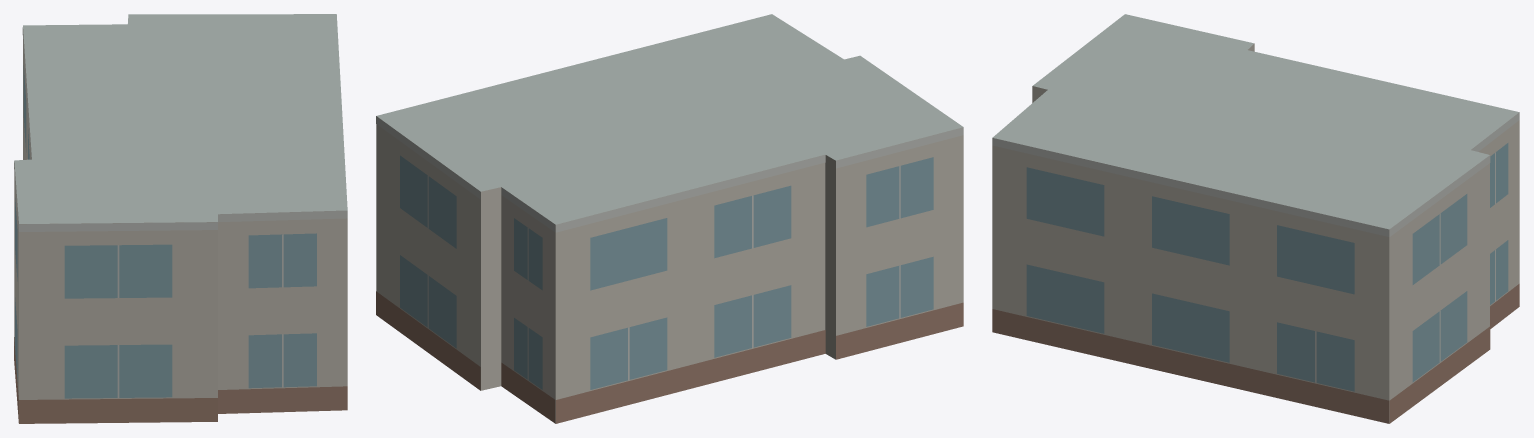
Rendered from survey-upis-33018690.glb.
The picture shows the model from 3 angles, left to right: view 1: azimuth 30°, elevation 25°; view 2: azimuth 150°, elevation 25°; view 3: azimuth 270°, elevation 25°; orthographic projection. The views are drawn at different scales.
Parts seen in each view (by area): view 1: survey-upis-33018690.tmp; view 2: survey-upis-33018690.tmp; view 3: survey-upis-33018690.tmp.
Part boxes in pixels (x1=…): survey-upis-33018690.tmp: x1=14, y1=14, x2=347, y2=423; survey-upis-33018690.tmp: x1=376, y1=14, x2=963, y2=423; survey-upis-33018690.tmp: x1=992, y1=14, x2=1519, y2=423.
Bounding box in the file's own units: 14.5 × 6.1 × 15.
